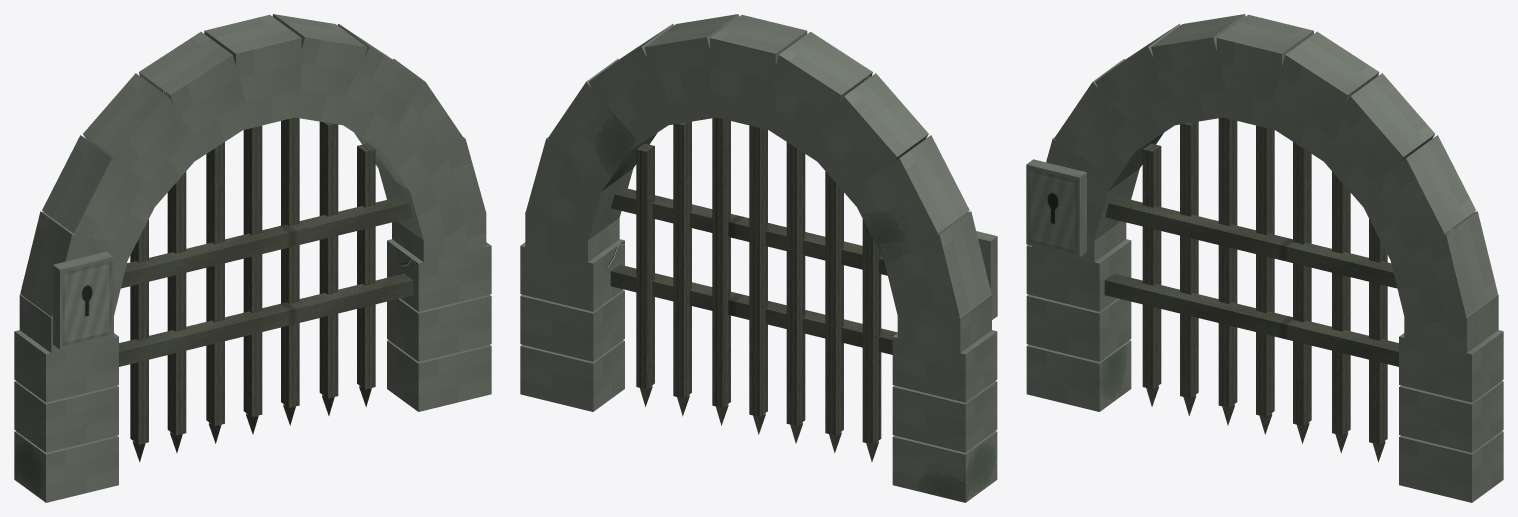
The model's file is ThiefDoor_ArchPortcullis.fbx.
The picture shows the model from 3 angles, left to right: view 1: azimuth 30°, elevation 25°; view 2: azimuth 150°, elevation 25°; view 3: azimuth 330°, elevation 25°; orthographic projection.
Parts seen in each view (by area): view 1: Stone_Arch_03, Stone_Arch_02, Stone_Arch_04, Gate_CrossBrace_00, Stone_Arch_05, Gate_CrossBrace_01, Stone_Arch_09, Stone_Arch_06, Stone_Arch_08, Stone_Arch_07, Right_Jamb_01, Right_Jamb_00 (+16 smaller); view 2: Stone_Arch_02, Stone_Arch_01, Stone_Arch_03, Stone_Arch_04, Stone_Arch_05, Stone_Arch_08, Stone_Arch_10, Stone_Arch_06, Stone_Arch_09, Iron_Portcullis_Bar_04, Iron_Portcullis_Bar_03, Iron_Portcullis_Bar_02 (+15 smaller); view 3: Stone_Arch_08, Stone_Arch_06, Stone_Arch_09, Stone_Arch_07, Gate_CrossBrace_00, Gate_CrossBrace_01, Stone_Arch_05, Stone_Arch_04, Stone_Arch_10, Stone_Arch_02, Right_Jamb_00, Left_Jamb_00 (+16 smaller).
Boxes of the visible parts, <box> form: Stone_Arch_03: <box>83,73,204,210</box>; Stone_Arch_02: <box>42,135,161,265</box>; Stone_Arch_04: <box>139,32,251,163</box>; Gate_CrossBrace_00: <box>119,273,413,366</box>; Stone_Arch_05: <box>204,14,301,131</box>; Gate_CrossBrace_01: <box>121,196,412,288</box>; Stone_Arch_09: <box>378,137,485,249</box>; Stone_Arch_06: <box>272,14,366,125</box>; Stone_Arch_08: <box>354,59,463,195</box>; Stone_Arch_07: <box>333,24,422,153</box>; Right_Jamb_01: <box>14,381,118,452</box>; Right_Jamb_00: <box>14,431,118,502</box>; Stone_Arch_02: <box>849,135,969,266</box>; Stone_Arch_01: <box>880,211,991,326</box>; Stone_Arch_03: <box>808,73,928,209</box>; Stone_Arch_04: <box>760,31,872,164</box>; Stone_Arch_05: <box>710,15,807,130</box>; Stone_Arch_08: <box>548,59,656,196</box>; Stone_Arch_10: <box>525,211,619,308</box>; Stone_Arch_06: <box>644,14,738,125</box>; Stone_Arch_09: <box>526,137,632,247</box>; Iron_Portcullis_Bar_04: <box>786,142,805,425</box>; Iron_Portcullis_Bar_03: <box>749,125,767,416</box>; Iron_Portcullis_Bar_02: <box>712,117,730,407</box>; Stone_Arch_08: <box>1356,135,1476,266</box>; Stone_Arch_06: <box>1266,31,1379,164</box>; Stone_Arch_09: <box>1387,211,1497,326</box>; Stone_Arch_07: <box>1315,73,1434,210</box>; Gate_CrossBrace_00: <box>1104,273,1398,366</box>; Gate_CrossBrace_01: <box>1105,196,1397,288</box>; Stone_Arch_05: <box>1216,14,1313,130</box>; Stone_Arch_04: <box>1151,14,1245,125</box>; Stone_Arch_10: <box>1404,294,1498,398</box>; Stone_Arch_02: <box>1054,58,1163,196</box>; Right_Jamb_00: <box>1026,340,1131,411</box>; Left_Jamb_00: <box>1399,431,1503,502</box>.
Bounding box in the file's own units: 251 × 217 × 38.15.
Materials: 5 (5 with a texture image).
